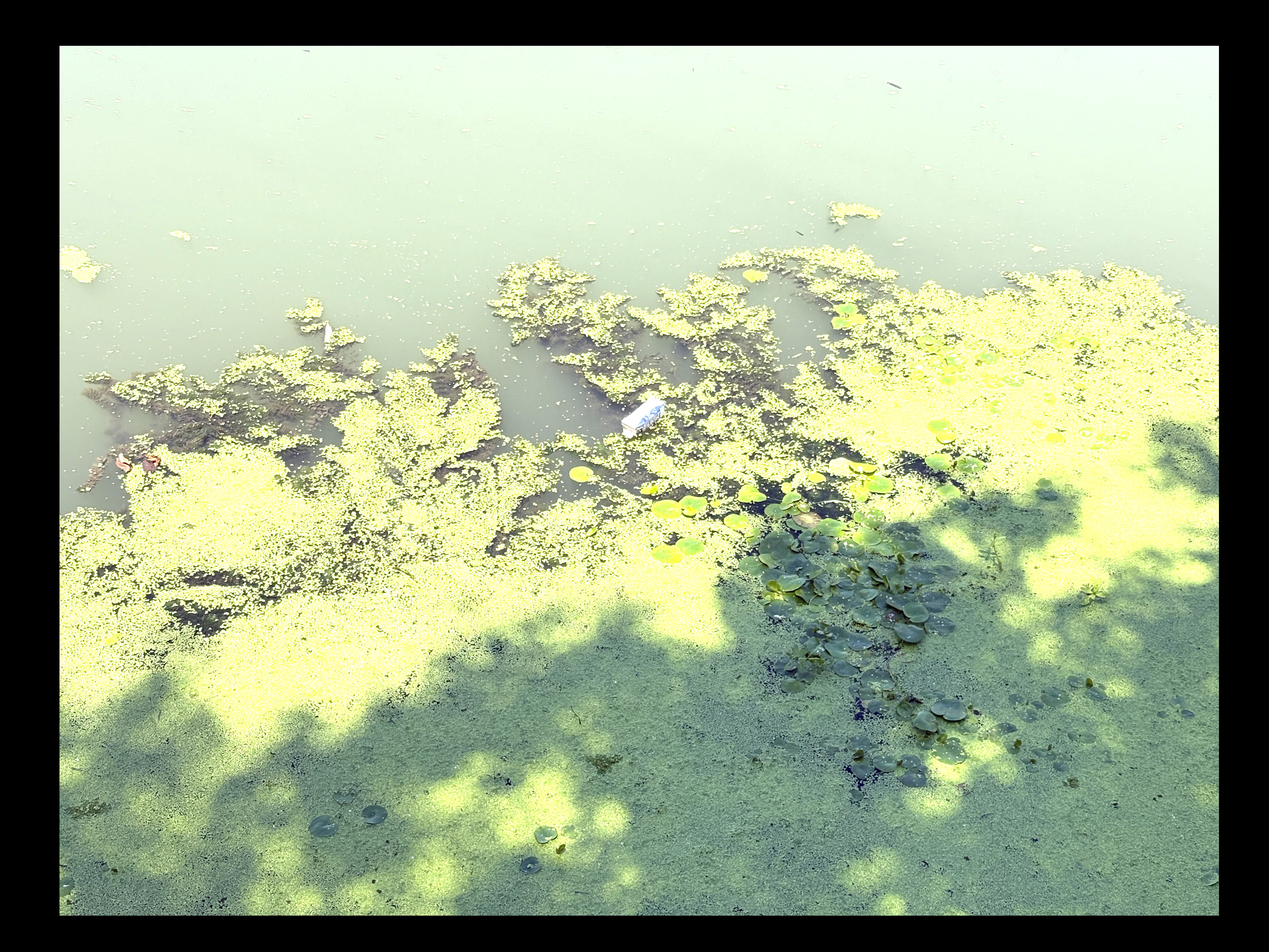Paper wastes: (617, 394, 674, 437)
